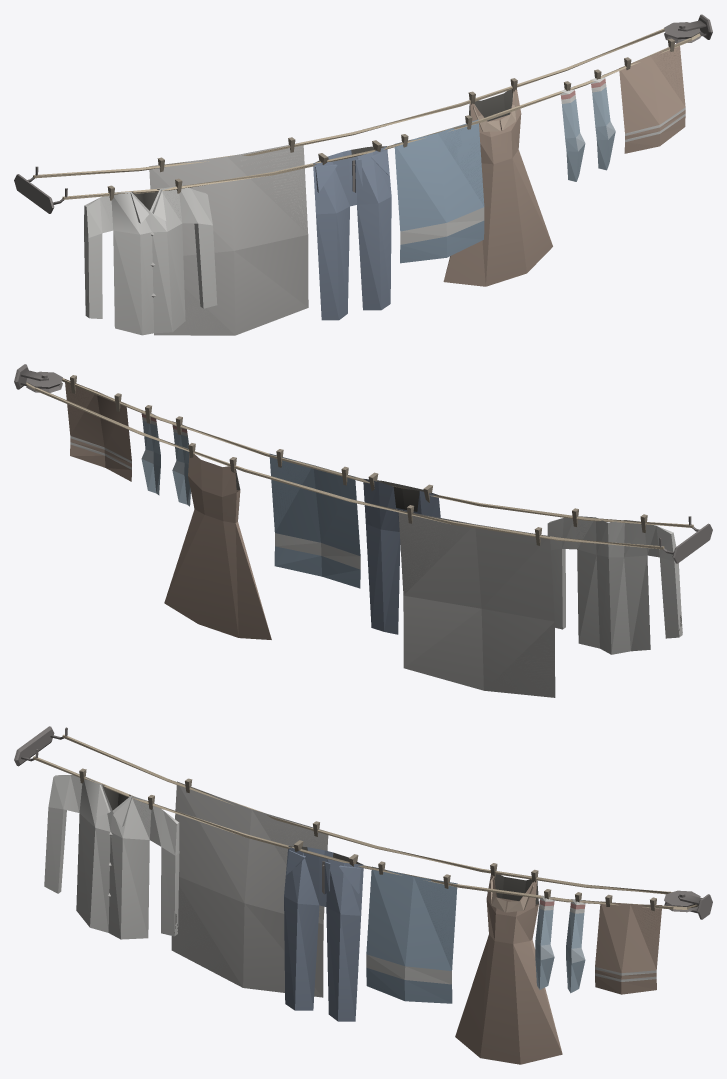
Rendered from laundry.glb.
3 renders of one model, top to bottom at view 1: azimuth 30°, elevation 25°; view 2: azimuth 150°, elevation 25°; view 3: azimuth 330°, elevation 25°, orthographic.
Parts seen in each view (by area): view 1: laundry; view 2: laundry; view 3: laundry.
Part boxes in pixels (bbox=[...]): laundry: bbox=[14, 14, 712, 335]; laundry: bbox=[14, 364, 712, 697]; laundry: bbox=[14, 726, 712, 1064].
Size of the model in its own units: 3.96 by 1.2 by 0.462.
